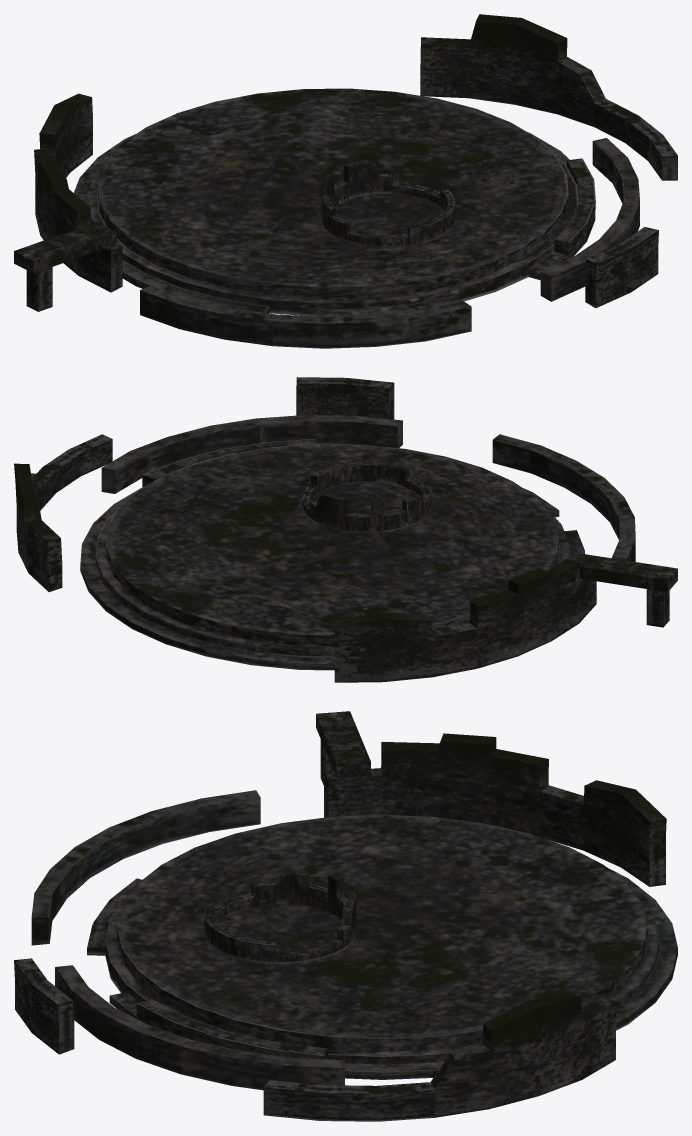
The model's file is spawner.gltf.
3 views of the same model, one above another, from view 1: azimuth 30°, elevation 25°; view 2: azimuth 150°, elevation 25°; view 3: azimuth 270°, elevation 25° (orthographic). The views are drawn at different scales.
Visible parts, largest first — view 1: Platform; view 2: Platform; view 3: Platform.
Boxes of the visible parts, x1,y1,x2,y2 form: Platform: [14, 14, 677, 348]; Platform: [14, 377, 677, 682]; Platform: [14, 711, 677, 1121].
Size of the model in its own units: 16.75 by 2.04 by 13.43.
Materials: 1 (1 with a texture image).
